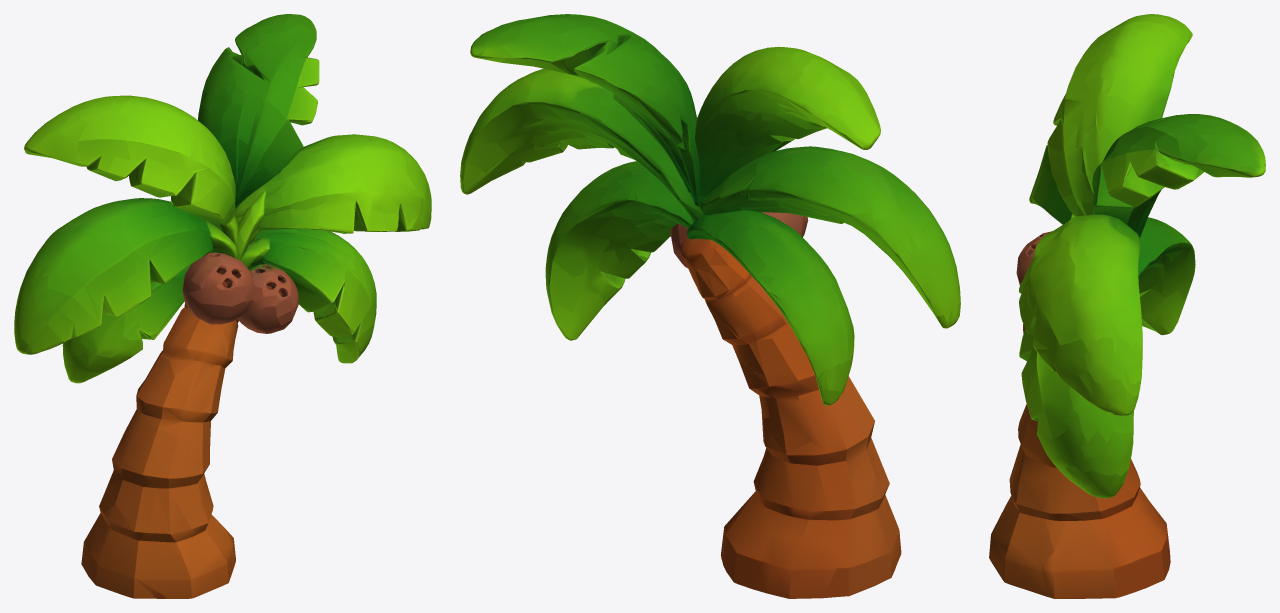
Rendered from palm.glb.
The picture shows the model from 3 angles, left to right: view 1: azimuth 30°, elevation 25°; view 2: azimuth 150°, elevation 25°; view 3: azimuth 270°, elevation 25°; orthographic projection. The views are drawn at different scales.
Bounding box in the file's own units: 1.8 × 1.9 × 0.8944.
1 material, 1 textured.
